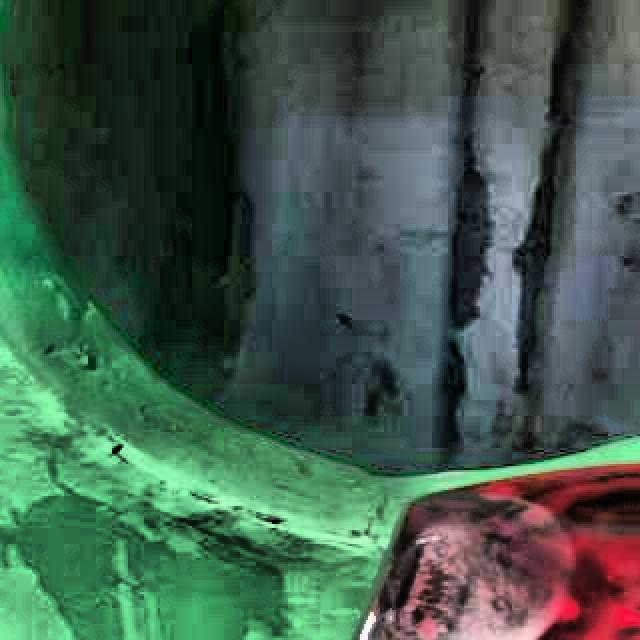glass: (357, 465, 640, 640)
